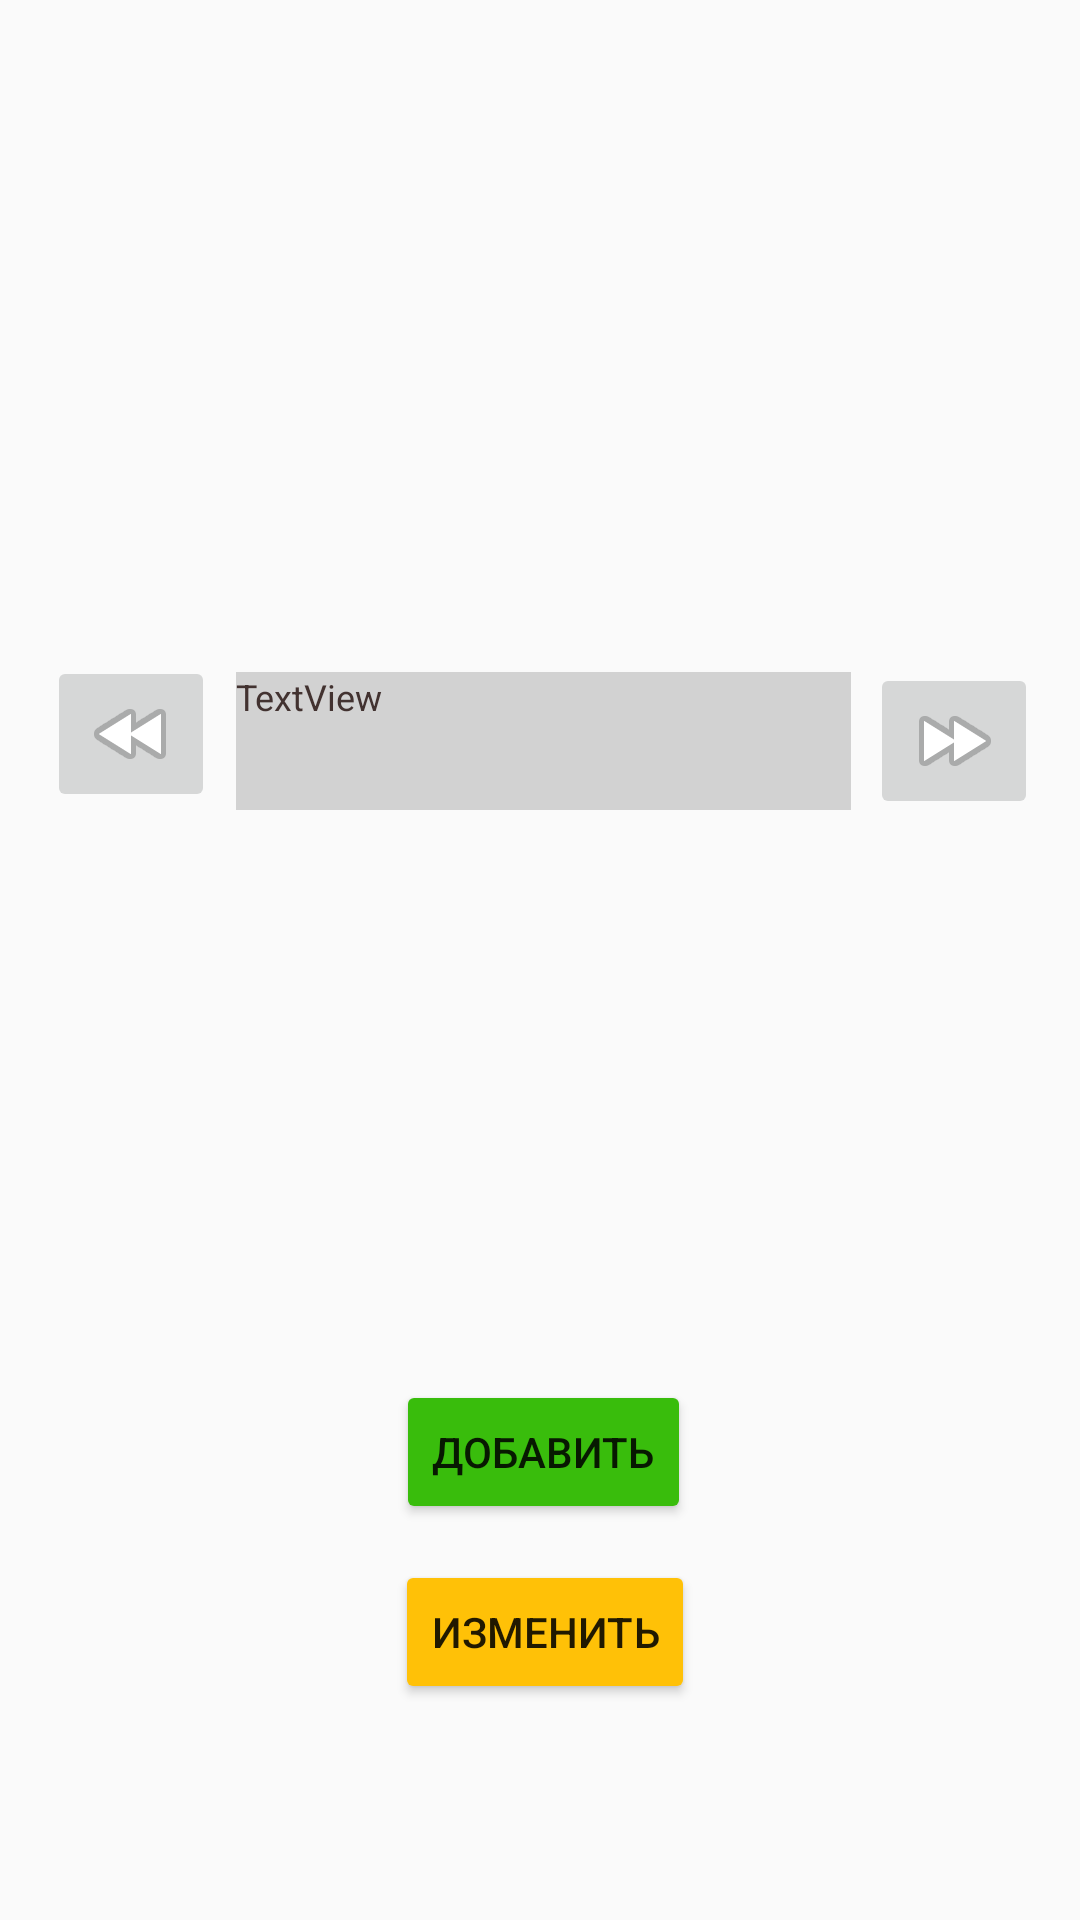

Locate icon controls on the screen. Image size 1080x1920, boxes as BBox(x1, y1, x2, y2).
rew: BBox(59, 674, 203, 794)
